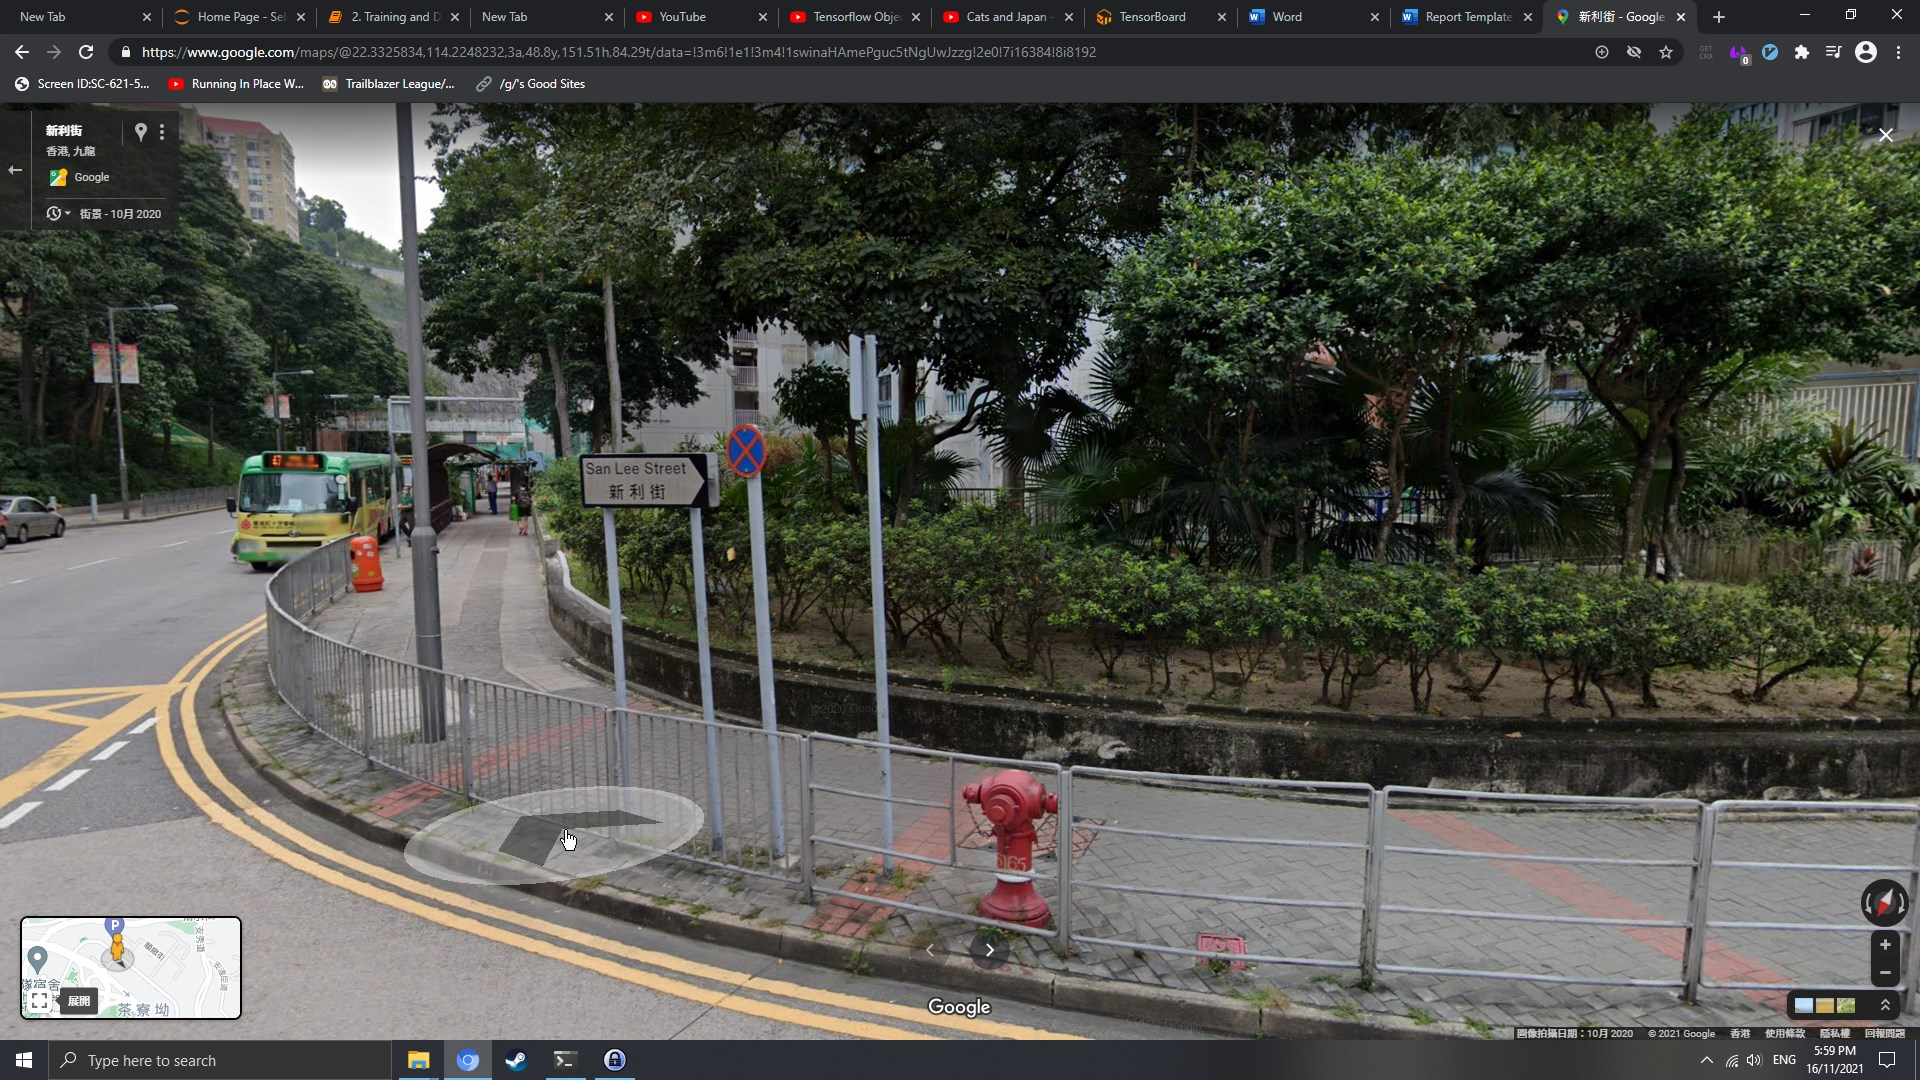NoStop: (727, 425, 767, 477)
